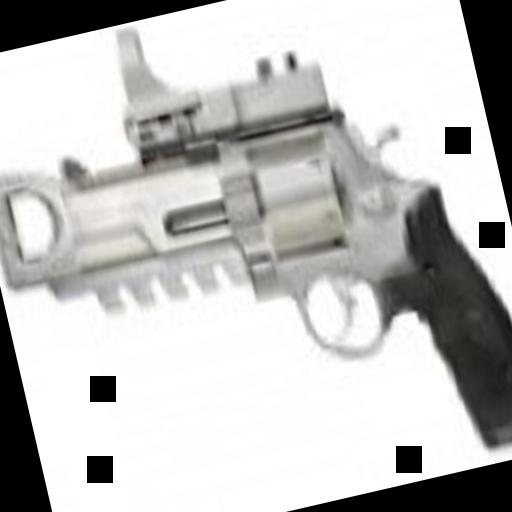Handgun: (0, 45, 512, 512)
